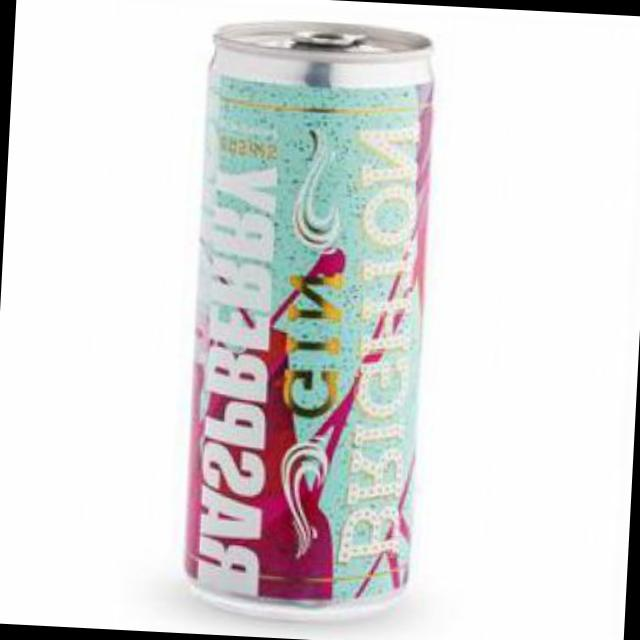metal: (189, 20, 435, 614)
